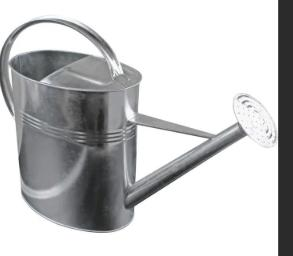ARROSOIR: (0, 10, 277, 253)
